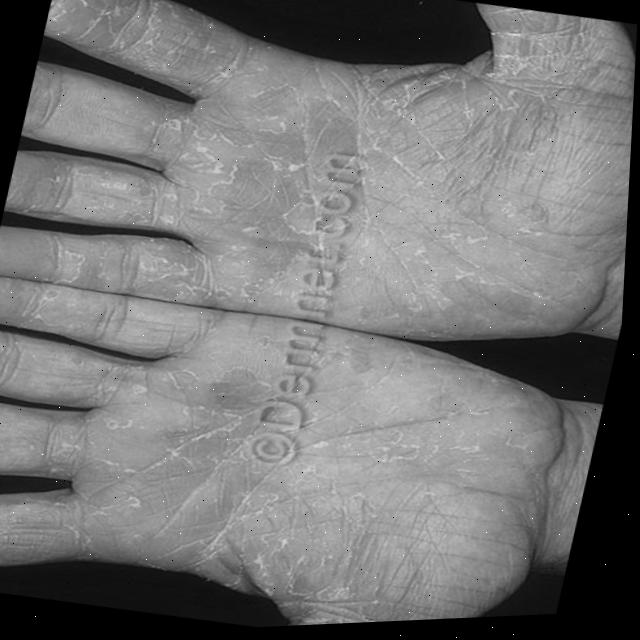Eczema: (125, 0, 638, 333), (112, 337, 449, 574)
